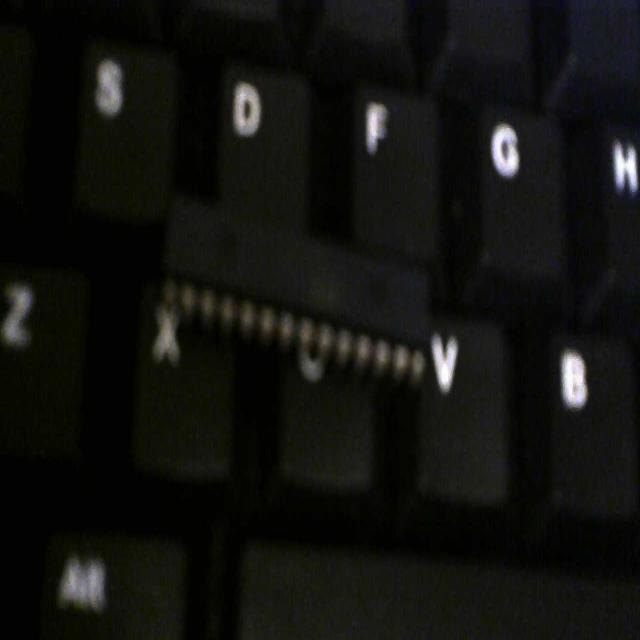atmega: (160, 180, 433, 387)
